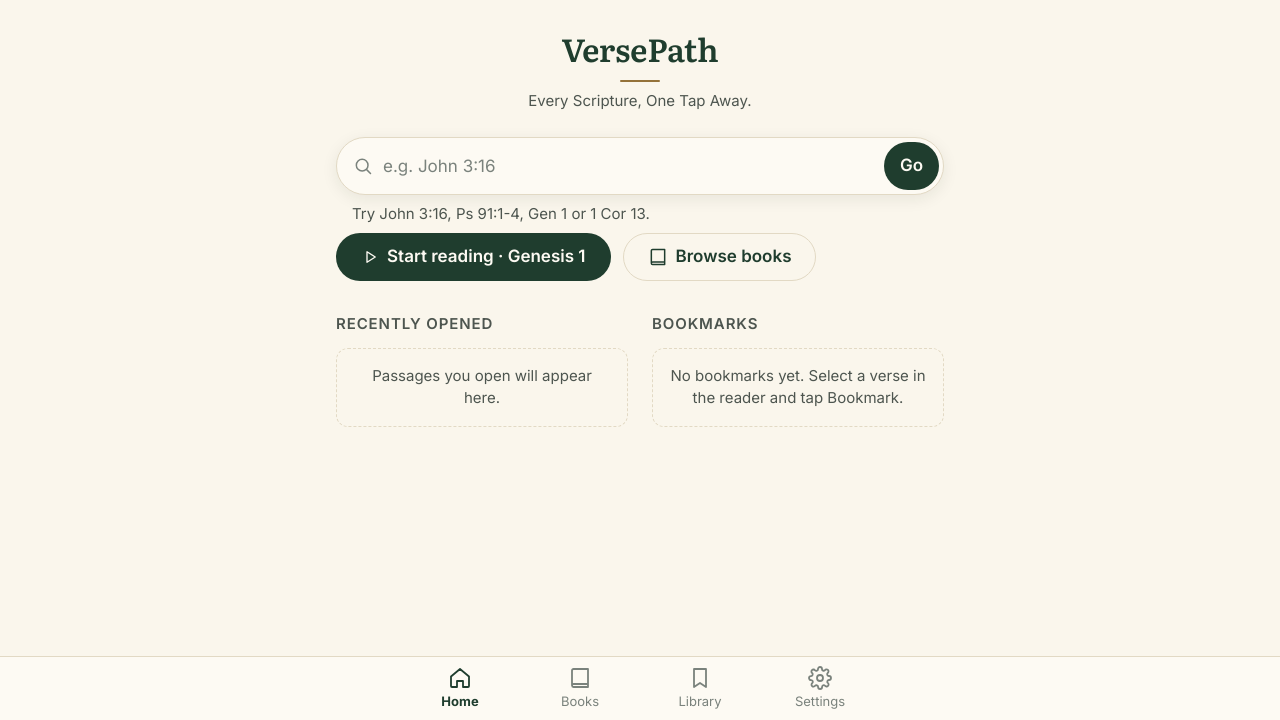
Test: app shell (mobile) › navigates Books → chapter → Reader with the World English Bible text
What coordinates should you click on to do the following:
click the button "Books"
I would click on:
 (580, 688)
Its box is [520, 657, 640, 719].
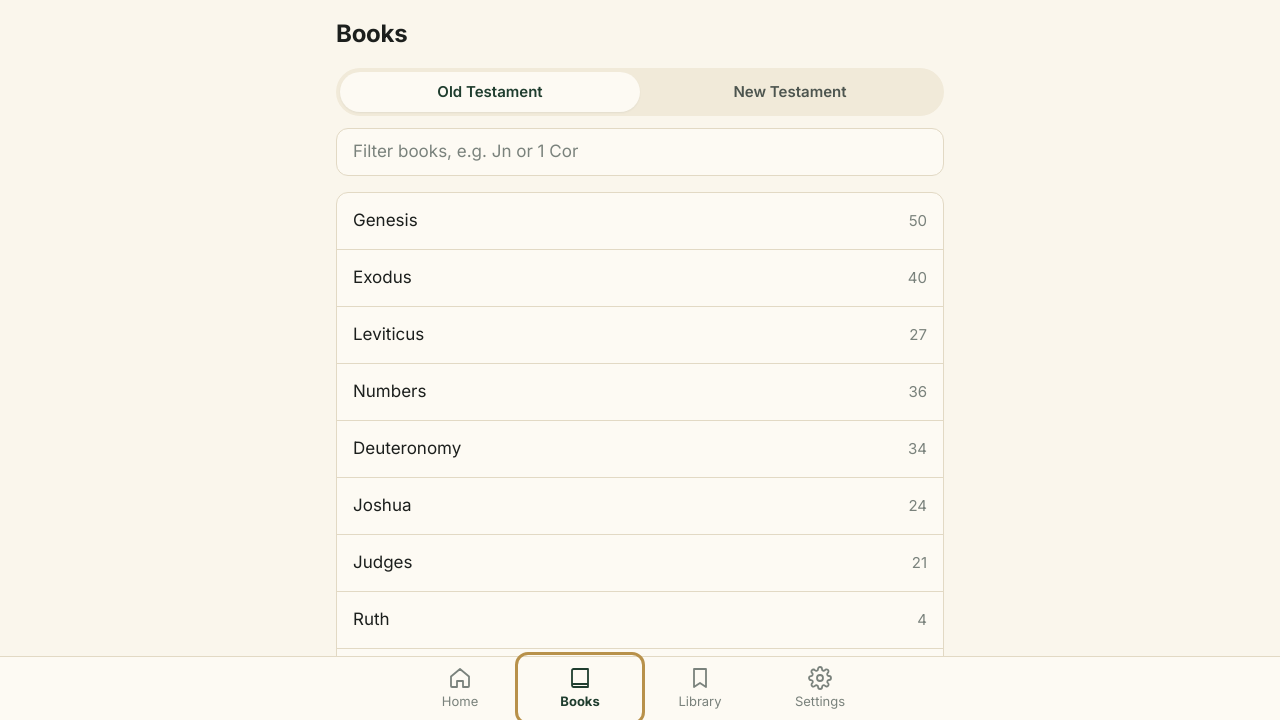
What coordinates should you click on to do the following:
click the button "New Testament"
I would click on:
 (790, 92)
Its box is [640, 72, 940, 112].
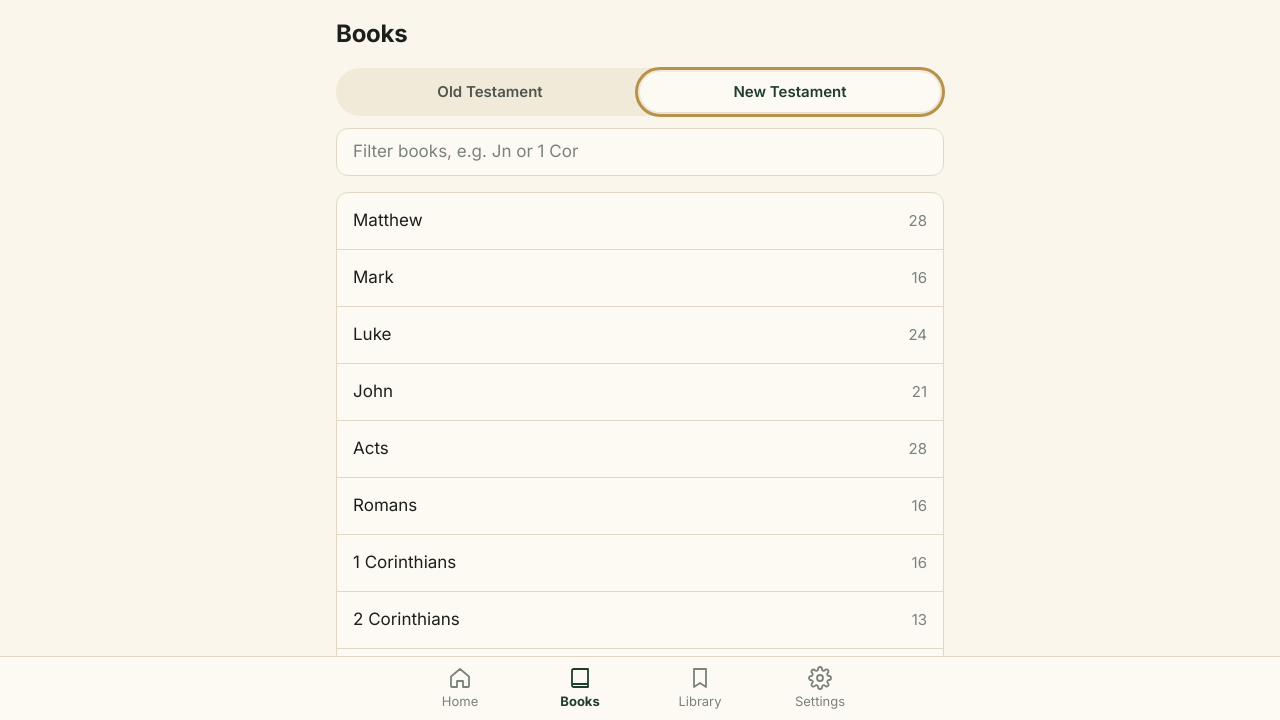
What coordinates should you click on to do the following:
click the button "John 21"
I would click on:
 (373, 391)
Its box is [337, 364, 943, 420].
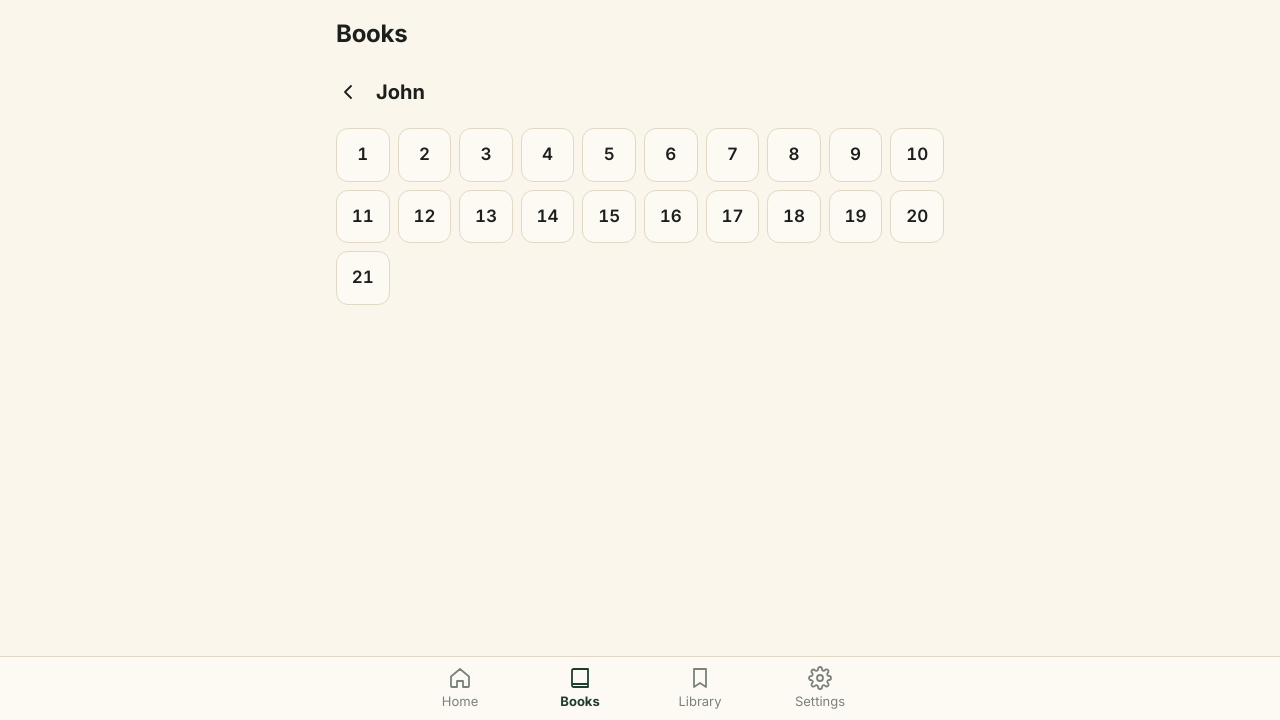
What coordinates should you click on to do the following:
click the button named "John chapter 3"
I would click on:
 (486, 155)
Its box is [459, 128, 513, 182].
(page scrolled)
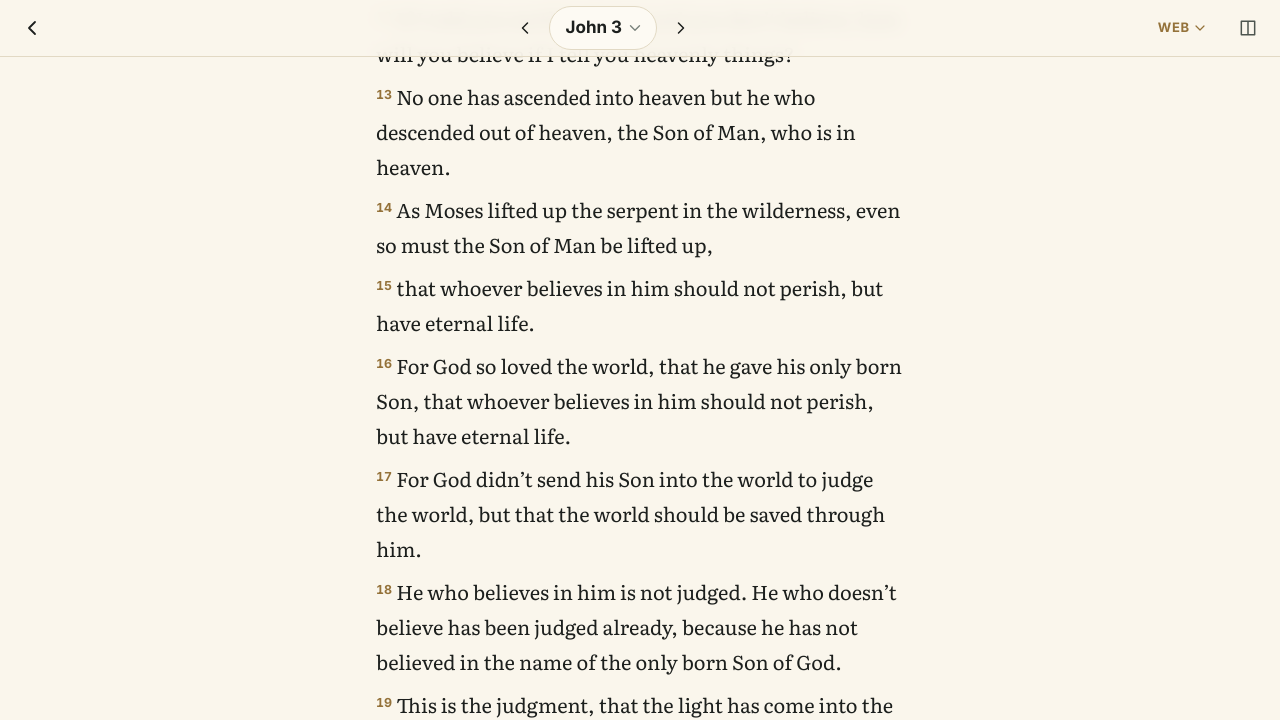
Expected: the text "For God so loved the world" is shown, [376, 350, 902, 450]
Expected: the navigation bar "Main" is gone
